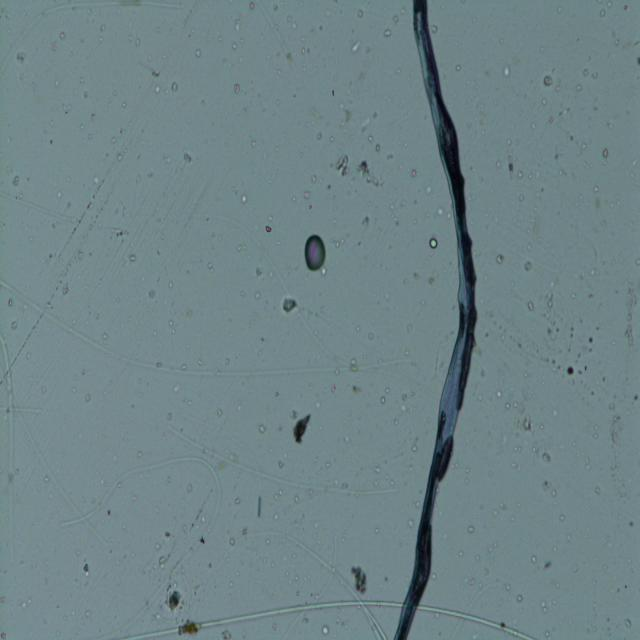Air bubble: (299, 232, 328, 275)
Background material: (606, 409, 630, 474), (621, 275, 637, 353), (355, 157, 383, 192), (165, 584, 189, 614), (291, 412, 313, 443), (353, 560, 368, 596), (336, 147, 352, 178), (278, 294, 300, 316), (191, 502, 208, 530), (592, 197, 606, 230), (384, 200, 400, 224), (544, 292, 558, 319), (179, 619, 200, 637), (153, 549, 171, 570), (111, 227, 130, 240), (332, 233, 347, 249), (168, 379, 183, 395), (180, 147, 192, 164), (428, 233, 440, 250), (16, 597, 33, 609), (256, 494, 264, 519), (192, 581, 205, 596), (541, 479, 555, 492), (167, 78, 179, 93), (524, 414, 534, 432), (501, 61, 511, 78), (350, 356, 360, 373), (238, 188, 248, 205), (434, 202, 446, 216), (98, 475, 110, 489), (117, 148, 129, 162), (170, 318, 179, 336), (86, 198, 96, 214), (90, 173, 102, 186), (48, 39, 60, 52), (60, 101, 72, 114), (382, 26, 394, 39), (540, 453, 552, 466), (124, 252, 137, 264), (149, 67, 162, 79), (560, 104, 572, 117), (350, 41, 364, 52), (488, 538, 498, 553), (252, 262, 262, 277), (207, 259, 217, 274), (360, 214, 370, 229), (544, 276, 556, 288), (312, 452, 321, 468), (542, 73, 554, 85), (95, 330, 108, 341), (273, 488, 284, 501), (494, 253, 504, 267), (493, 386, 503, 400), (23, 348, 33, 362), (623, 616, 633, 630), (371, 107, 381, 121), (5, 320, 19, 330), (231, 83, 243, 94), (429, 22, 440, 34), (188, 26, 198, 39), (285, 49, 295, 62), (526, 299, 536, 312), (166, 409, 174, 424), (423, 180, 433, 192), (313, 130, 323, 142), (290, 191, 300, 203), (160, 152, 170, 164), (320, 264, 330, 276), (523, 261, 535, 271), (248, 135, 256, 150), (584, 455, 592, 470), (541, 558, 553, 568), (227, 534, 237, 546), (565, 364, 575, 376), (148, 290, 158, 302), (1, 135, 14, 144), (540, 602, 548, 616), (258, 225, 272, 233), (310, 171, 318, 185), (344, 109, 352, 123), (154, 356, 164, 367), (16, 52, 27, 62), (408, 443, 419, 453), (511, 461, 521, 472), (222, 629, 232, 640), (468, 576, 478, 587), (61, 284, 70, 296), (475, 103, 487, 112), (321, 622, 330, 634), (48, 119, 56, 132), (352, 320, 360, 333), (83, 566, 93, 576), (476, 390, 486, 400), (453, 62, 463, 72), (466, 526, 476, 536), (611, 37, 621, 47), (10, 175, 20, 185), (542, 628, 552, 638), (514, 444, 524, 454), (80, 367, 90, 377), (194, 49, 203, 60), (481, 327, 490, 338), (585, 52, 594, 63), (508, 160, 515, 174), (136, 170, 143, 184), (339, 97, 346, 111), (179, 360, 187, 372), (588, 268, 596, 280), (304, 187, 312, 199), (305, 42, 313, 54), (64, 200, 72, 212), (133, 36, 141, 48), (235, 244, 247, 252), (290, 496, 302, 504), (42, 471, 49, 484), (631, 392, 640, 402), (164, 279, 173, 289), (352, 384, 362, 393), (341, 434, 351, 443), (582, 160, 591, 170), (516, 167, 524, 178), (587, 386, 595, 397), (608, 400, 616, 411), (494, 158, 502, 169), (326, 132, 334, 143), (600, 373, 608, 384), (0, 629, 8, 640), (426, 273, 434, 284), (552, 366, 558, 380), (236, 17, 242, 31), (233, 494, 240, 506), (313, 400, 322, 409), (538, 97, 547, 106), (463, 465, 471, 475), (154, 84, 162, 94), (411, 168, 419, 178), (518, 193, 526, 203), (621, 1, 629, 11), (163, 528, 171, 538), (5, 24, 13, 34), (186, 482, 194, 492), (146, 170, 156, 178), (290, 410, 298, 420), (528, 214, 536, 224), (46, 252, 56, 260), (502, 402, 512, 410), (514, 594, 524, 602), (498, 502, 508, 510), (270, 620, 278, 630), (340, 621, 348, 631), (554, 83, 562, 93), (91, 109, 97, 122), (329, 383, 335, 396), (614, 192, 620, 205), (465, 117, 472, 128), (467, 194, 478, 201), (578, 269, 585, 280), (529, 555, 536, 566), (253, 289, 260, 300), (556, 168, 564, 177), (546, 326, 554, 335), (119, 520, 127, 529), (268, 210, 274, 222), (531, 120, 537, 132), (249, 2, 258, 10), (69, 386, 78, 394), (395, 162, 403, 171), (380, 396, 388, 405), (82, 91, 90, 100), (558, 513, 566, 522), (489, 508, 498, 516), (592, 184, 600, 193), (582, 67, 590, 76), (598, 8, 606, 17), (568, 290, 576, 299), (602, 147, 608, 159), (59, 30, 66, 40), (572, 563, 579, 573), (408, 518, 415, 528), (487, 468, 494, 478), (200, 536, 207, 546), (541, 355, 551, 362), (595, 485, 601, 496), (531, 204, 539, 212), (372, 145, 380, 153), (592, 71, 600, 79), (554, 6, 563, 13), (206, 561, 213, 570), (374, 465, 381, 474), (54, 78, 60, 88), (566, 532, 572, 542), (480, 368, 486, 378), (65, 173, 71, 183), (0, 593, 6, 603), (367, 134, 373, 144), (89, 494, 95, 504), (154, 246, 160, 256), (273, 388, 279, 398), (357, 8, 363, 18), (8, 297, 14, 307), (160, 231, 166, 241), (264, 536, 270, 546), (576, 82, 582, 92), (77, 253, 85, 260), (136, 449, 143, 457), (554, 583, 561, 591), (514, 341, 522, 348), (42, 577, 49, 585), (341, 483, 349, 490), (324, 462, 332, 469), (635, 54, 640, 65), (55, 629, 61, 638), (84, 609, 90, 618), (70, 608, 76, 617), (300, 34, 306, 43), (273, 513, 279, 522), (402, 392, 408, 401), (464, 476, 470, 485), (259, 423, 265, 432), (401, 406, 407, 415), (548, 116, 554, 125), (431, 570, 436, 580), (374, 479, 381, 486), (570, 326, 574, 338), (554, 325, 560, 333), (606, 614, 612, 622), (498, 36, 504, 44), (121, 100, 127, 108), (18, 192, 24, 200), (86, 132, 92, 140), (232, 42, 238, 50), (330, 88, 336, 96), (534, 190, 540, 198), (188, 398, 194, 406), (554, 151, 560, 159), (43, 616, 49, 624), (228, 580, 234, 588), (224, 555, 230, 563), (622, 582, 628, 590), (197, 357, 203, 365), (509, 514, 515, 522), (552, 490, 558, 498), (182, 524, 188, 532), (239, 55, 245, 63), (374, 526, 380, 534), (80, 123, 85, 132), (86, 394, 91, 403), (341, 118, 346, 127), (394, 417, 399, 426), (390, 478, 395, 487), (243, 527, 248, 536), (102, 21, 106, 32), (292, 22, 298, 29), (533, 447, 539, 454), (152, 329, 158, 336), (55, 602, 61, 609), (286, 15, 292, 22), (383, 575, 389, 582), (608, 123, 614, 130), (132, 496, 138, 503), (54, 192, 61, 198), (165, 476, 171, 483), (568, 134, 574, 141), (270, 561, 276, 568), (603, 564, 609, 571), (479, 119, 485, 126), (301, 44, 305, 54), (356, 238, 360, 248), (318, 23, 323, 31), (636, 256, 640, 266), (582, 142, 586, 152), (309, 204, 315, 210), (370, 334, 376, 340), (155, 543, 161, 549), (589, 292, 595, 298), (76, 550, 82, 556), (110, 138, 116, 144), (315, 594, 321, 600), (594, 104, 600, 110), (588, 337, 594, 343), (552, 357, 556, 366), (508, 139, 513, 146), (273, 4, 278, 11), (607, 1, 612, 8), (459, 550, 464, 557), (393, 16, 398, 23), (411, 390, 416, 397), (334, 369, 339, 376), (515, 400, 519, 408), (296, 589, 300, 597), (284, 570, 288, 578), (616, 585, 620, 593), (584, 364, 588, 372), (568, 345, 572, 353), (294, 574, 298, 582), (477, 554, 481, 562), (120, 125, 123, 135), (578, 369, 583, 375), (52, 223, 57, 229), (107, 511, 113, 516), (117, 482, 122, 488), (481, 130, 486, 136), (628, 521, 634, 526), (528, 172, 533, 178), (385, 474, 390, 480), (550, 320, 556, 325), (595, 326, 601, 331), (275, 99, 279, 106), (100, 36, 104, 43), (280, 460, 284, 467), (349, 133, 353, 140), (416, 501, 420, 508), (335, 616, 339, 623), (554, 408, 558, 415), (80, 77, 84, 84), (528, 244, 532, 251), (540, 47, 545, 52), (578, 352, 582, 358), (558, 364, 562, 370), (506, 584, 510, 590), (277, 70, 281, 76), (334, 220, 338, 226), (609, 202, 613, 208), (257, 580, 261, 586), (386, 388, 390, 394), (343, 127, 347, 133), (415, 200, 419, 206), (589, 347, 593, 353), (49, 139, 53, 144), (327, 185, 331, 190), (577, 36, 580, 42), (236, 573, 240, 577), (542, 187, 544, 192), (607, 538, 609, 542)
Cotton: (390, 0, 476, 640)
Glass filter fibre: (1, 280, 411, 388), (57, 452, 224, 564), (167, 424, 401, 499), (263, 525, 387, 640), (126, 589, 404, 640), (0, 0, 183, 71), (418, 602, 537, 640), (0, 334, 17, 488), (9, 402, 43, 416)
